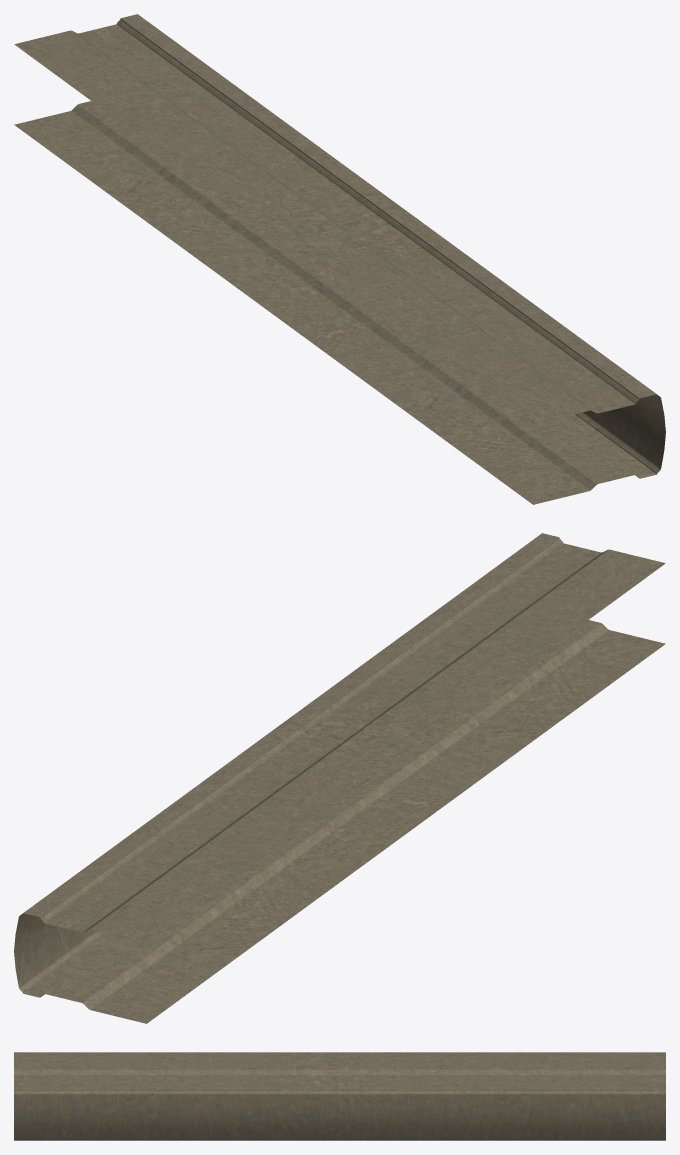
Rendered from cP_Fence04_Straight.dae.
3 renders of one model, top to bottom at view 1: azimuth 30°, elevation 25°; view 2: azimuth 150°, elevation 25°; view 3: azimuth 270°, elevation 25°, orthographic. The views are drawn at different scales.
Parts seen in each view (by area): view 1: cP_Fence04_Straight.001; view 2: cP_Fence04_Straight.001; view 3: cP_Fence04_Straight.001.
Part boxes in pixels (bbox=[...]): cP_Fence04_Straight.001: bbox=[14, 14, 665, 504]; cP_Fence04_Straight.001: bbox=[14, 533, 665, 1023]; cP_Fence04_Straight.001: bbox=[14, 1052, 665, 1140].
Bounding box in the file's own units: 1.03 × 7.01 × 0.5995.
